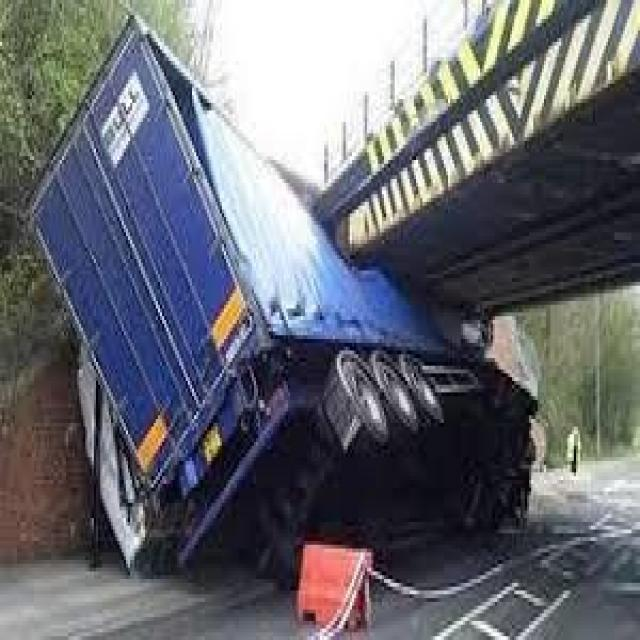accident: (21, 4, 538, 590)
